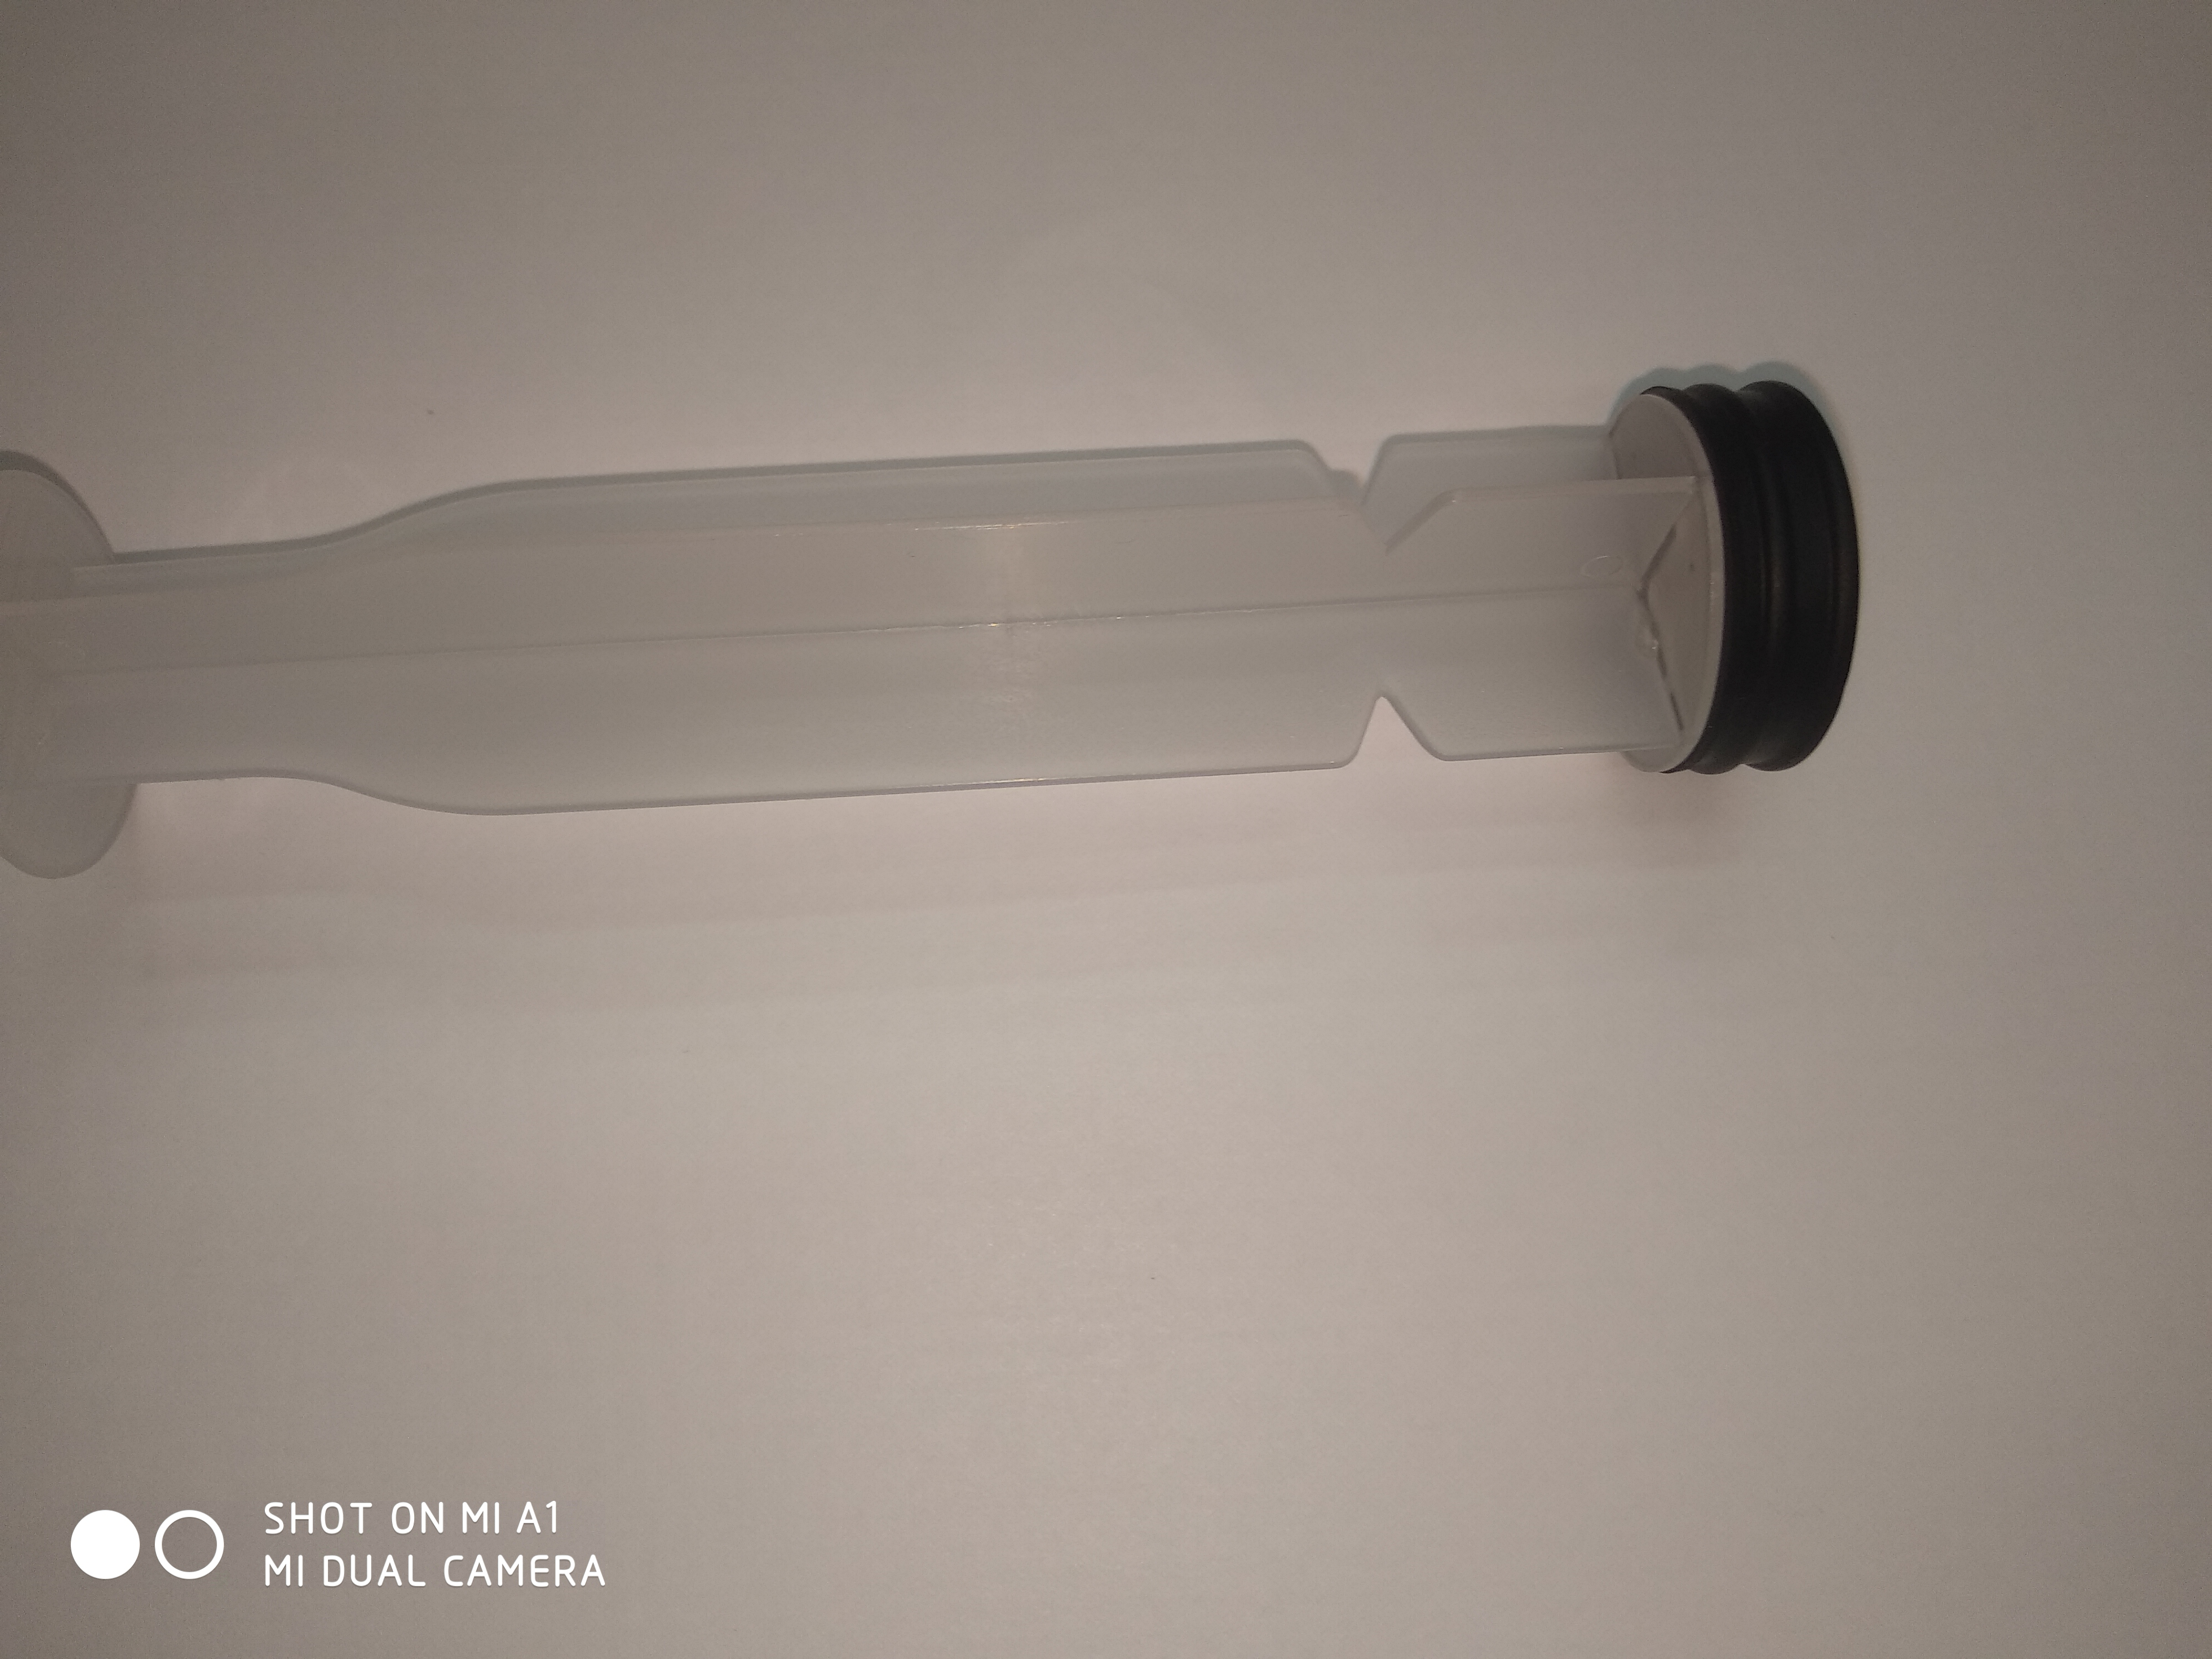plunger: (7, 380, 1871, 889)
